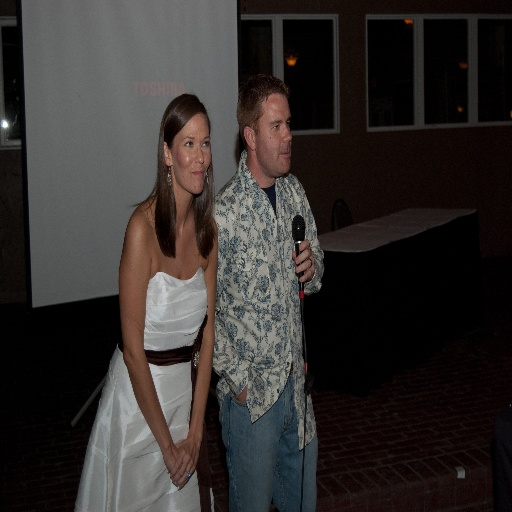hand: (167, 435, 200, 493), (293, 239, 324, 300), (166, 449, 183, 478), (235, 382, 247, 402)
